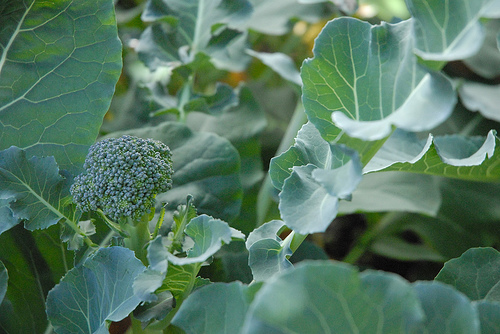broccoli: (68, 135, 176, 255)
